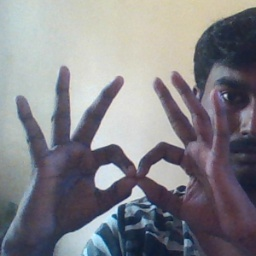B: (80, 106, 203, 215)
